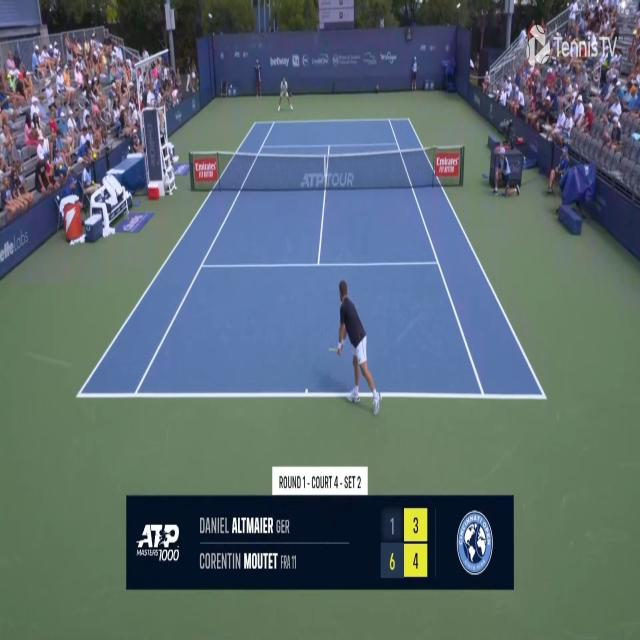tennis-player: (332, 275, 386, 416), (276, 77, 294, 113)
